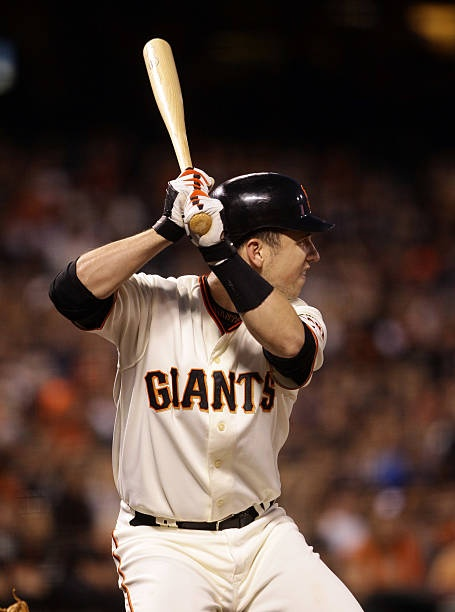bita: (141, 36, 213, 237)
